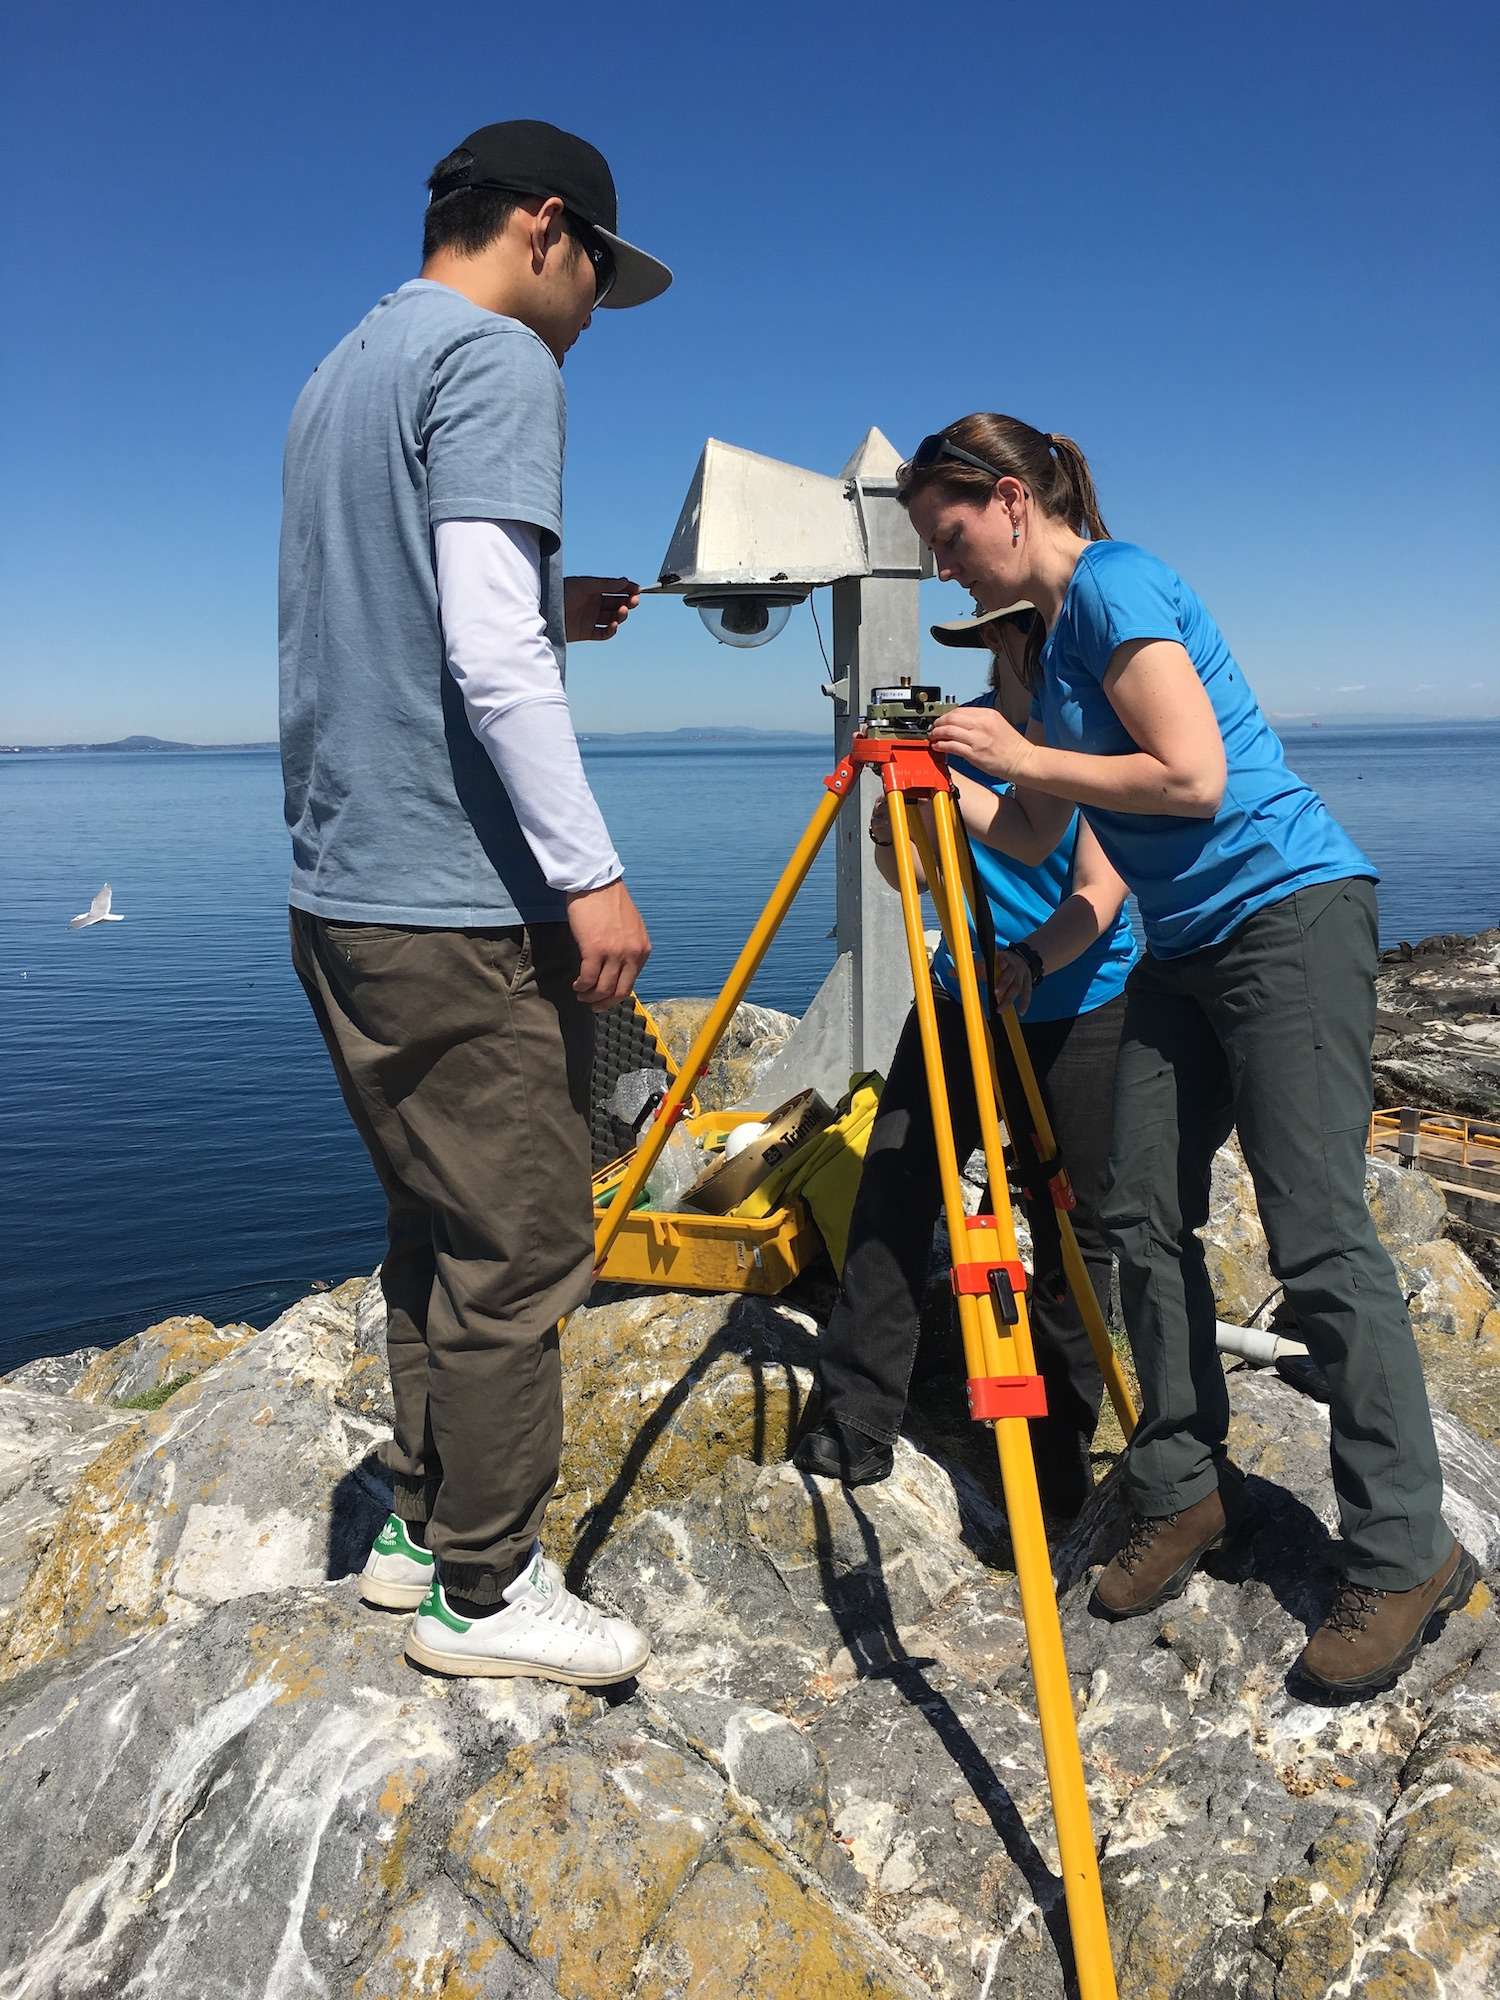Person: (806, 374, 1496, 1706), (219, 83, 715, 1728)
